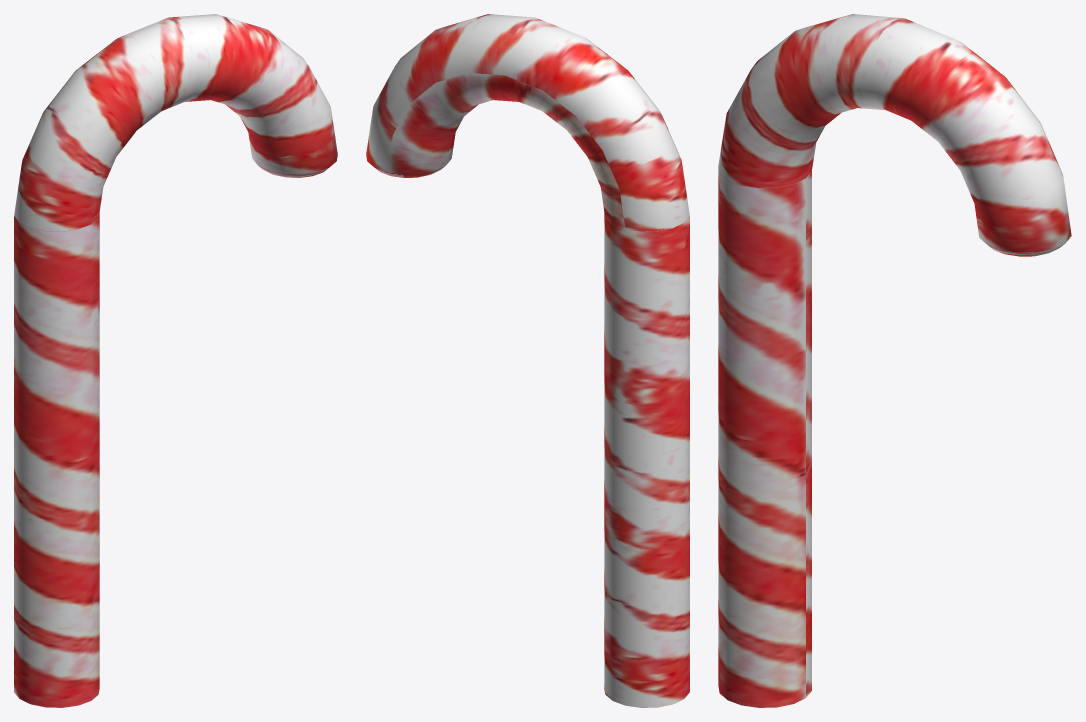
Rendered from Candy1.FBX.
The picture shows the model from 3 angles, left to right: view 1: azimuth 30°, elevation 25°; view 2: azimuth 150°, elevation 25°; view 3: azimuth 330°, elevation 25°; orthographic projection. The views are drawn at different scales.
Visible parts, largest first — view 1: Cylinder001; view 2: Cylinder001; view 3: Cylinder001.
Boxes of the visible parts, x1=… form: Cylinder001: x1=14, y1=14, x2=337, y2=707; Cylinder001: x1=366, y1=14, x2=689, y2=707; Cylinder001: x1=718, y1=14, x2=1071, y2=707.
Size of the model in its own units: 52.15 by 102 by 12.47.
1 material, 1 textured.
